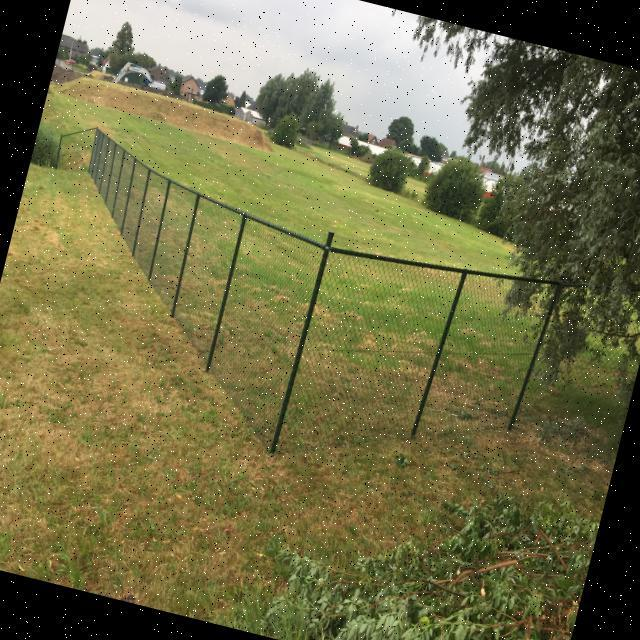fence line: (269, 212, 639, 542), (142, 192, 352, 435), (85, 143, 202, 268), (48, 124, 134, 198)
